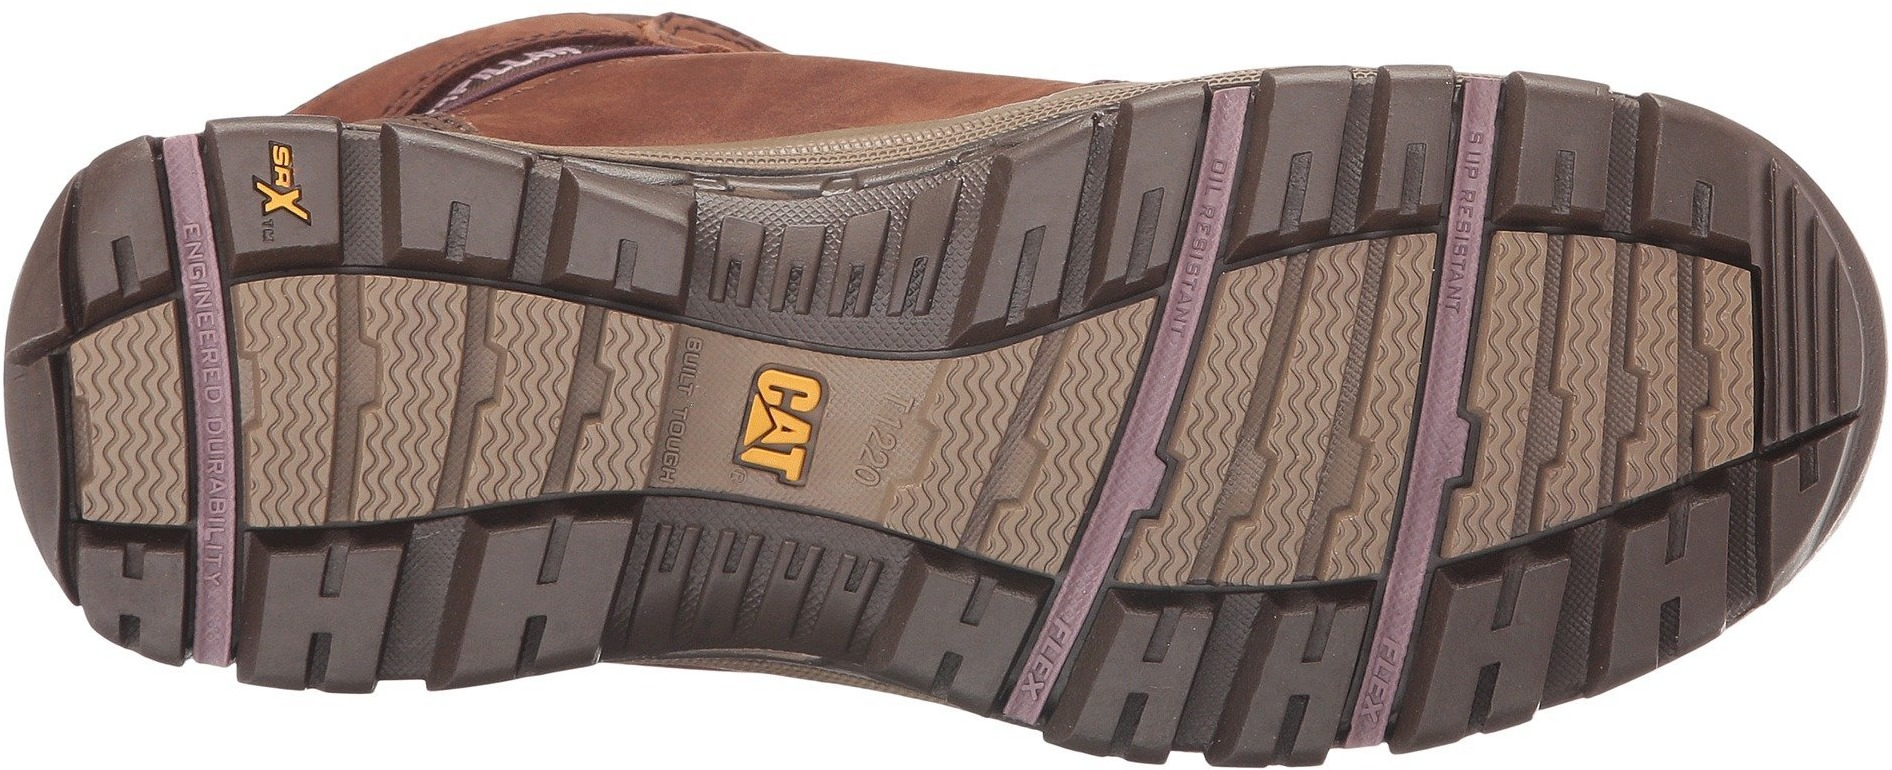chevron: (243, 432, 331, 517), (257, 278, 340, 362)
text: (714, 367, 852, 504), (230, 152, 332, 243), (858, 384, 946, 476), (668, 340, 709, 383)
